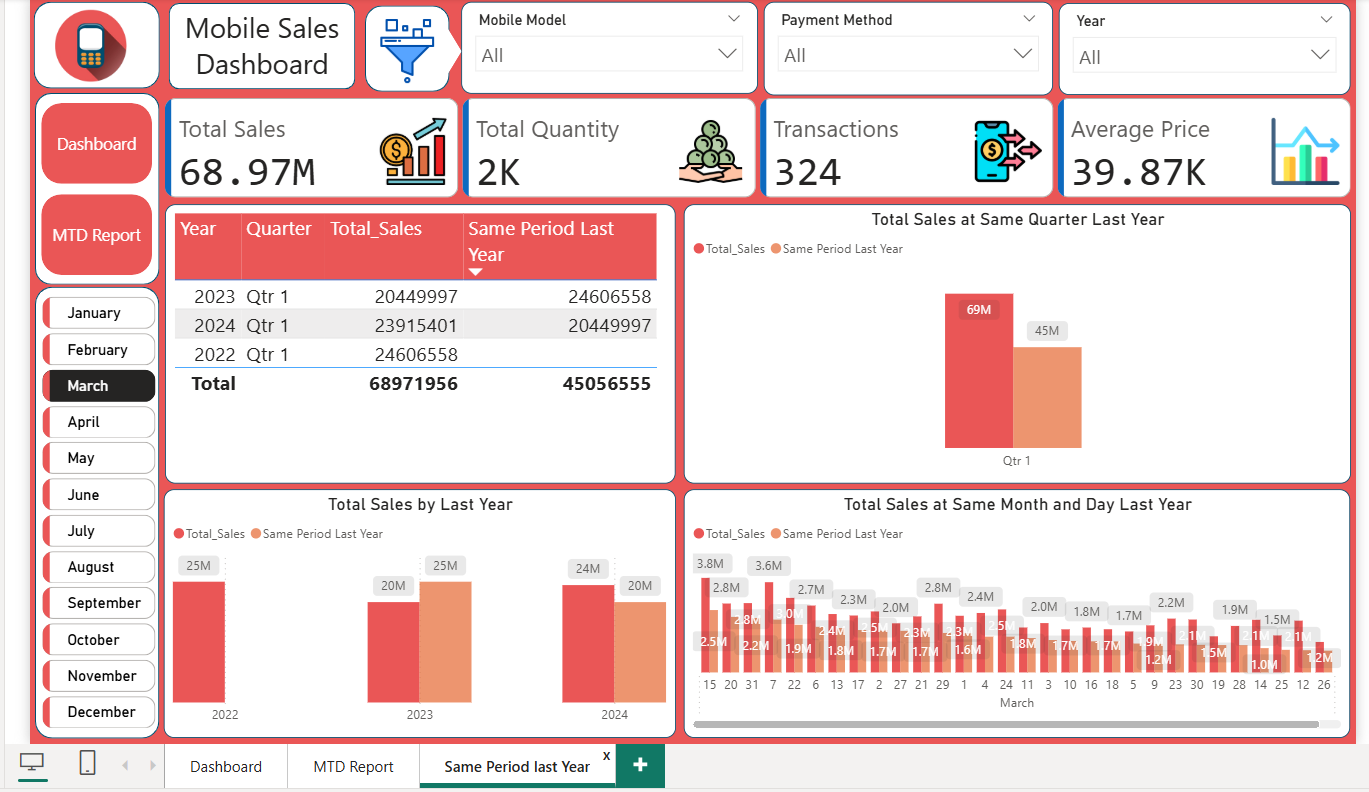

The page's visual inventory and layout, read from the dashboard file:
{"tool":"powerbi","page":{"name":"Same Period last Year","canvas":[1280,720],"ordinal":2},"visuals":[{"type":"shape","box":[4.1,4.1,121.6,83.8],"z":0},{"type":"image","box":[13.5,2.7,102.4,98.4],"z":1000},{"type":"shape","box":[5.4,91.9,120.3,185.1],"z":2000},{"type":"slicer","fields":{"Values":["Mobile Sales Data.Mobile Model"]},"box":[416.2,3.8,286.2,88.5],"z":3000},{"type":"slicer","fields":{"Values":["Custom_Calender.Date.Variation.Date Hierarchy.Year"]},"box":[992.9,4.3,281.4,88.6],"z":4000},{"type":"slicer","fields":{"Values":["Mobile Sales Data.Payment Method"]},"box":[708.5,3.1,279.2,90],"z":5000},{"type":"shape","box":[323.3,7.5,81.7,83.3],"z":6000},{"type":"shape","box":[383.1,23.8,33.1,54.6],"z":7000},{"type":"image","box":[256.7,14.2,215,74.2],"z":8000},{"type":"shape","box":[133.3,5,180,83.3],"z":9000},{"type":"textbox","box":[133.6,5,180,88.6],"z":10000},{"type":"shape","box":[5.4,278.5,120,436.2],"z":11000},{"type":"advancedSlicerVisual","fields":{"Values":["Custom_Calender.Date.Variation.Date Hierarchy.Month"]},"box":[6.9,283.9,119.4,436.1],"z":12000},{"type":"tableEx","fields":{"Values":["Custom_Calender.Date.Variation.Date Hierarchy.Year","Custom_Calender.Date.Variation.Date Hierarchy.Quarter","Mobile Sales Data.Total_Sales","Mobile Sales Data.Same Period Last Year"]},"box":[130.6,198.6,493.1,269.4],"z":13000},{"type":"clusteredColumnChart","title":"Total Sales at Same Quarter Last Year","fields":{"Category":["Custom_Calender.Date.Variation.Date Hierarchy.Quarter"],"Y":["Mobile Sales Data.Total_Sales","Mobile Sales Data.Same Period Last Year"]},"box":[631.1,198.9,643.9,269.4],"z":14000},{"type":"clusteredColumnChart","title":"Total Sales at Same Month and Day Last Year","fields":{"Y":["Mobile Sales Data.Total_Sales","Mobile Sales Data.Same Period Last Year"],"Category":["Custom_Calender.Date.Variation.Date Hierarchy.Month","Custom_Calender.Date.Variation.Date Hierarchy.Day"]},"box":[630.7,473.6,643.6,240],"z":15000},{"type":"clusteredColumnChart","title":"Total Sales by Last Year","fields":{"Category":["Custom_Calender.Date.Variation.Date Hierarchy.Year"],"Y":["Mobile Sales Data.Total_Sales","Mobile Sales Data.Same Period Last Year"]},"box":[129.5,473.7,494.2,240],"z":16000},{"type":"pageNavigator","box":[10.9,101.3,107.4,167.7],"z":17000},{"type":"cardVisual","fields":{"Data":["Mobile Sales Data.Total_Sales","Mobile Sales Data.Total Quantity","Mobile Sales Data.Transaction","Mobile Sales Data.Average_Price"]},"box":[125,91.7,1155,106.7],"z":18000}]}

Visuals, with their boxes on the page's 1280x720 design canvas (x1, y1, x2, y2). These are canvas units, not pixel positions in the 1369x792 screenshot, which may show the page scaled, cropped or inside an application window:
shape: 4:4:126:88
image: 14:3:116:101
shape: 5:92:126:277
slicer - Mobile Sales Data.Mobile Model: 416:4:702:92
slicer - Custom_Calender.Date.Variation.Date Hierarchy.Year: 993:4:1274:93
slicer - Mobile Sales Data.Payment Method: 708:3:988:93
shape: 323:8:405:91
shape: 383:24:416:78
image: 257:14:472:88
shape: 133:5:313:88
textbox: 134:5:314:94
shape: 5:278:125:715
advancedSlicerVisual - Custom_Calender.Date.Variation.Date Hierarchy.Month: 7:284:126:720
tableEx - Custom_Calender.Date.Variation.Date Hierarchy.Year x Custom_Calender.Date.Variation.Date Hierarchy.Quarter: 131:199:624:468
"Total Sales at Same Quarter Last Year" clusteredColumnChart: 631:199:1275:468
"Total Sales at Same Month and Day Last Year" clusteredColumnChart: 631:474:1274:714
"Total Sales by Last Year" clusteredColumnChart: 130:474:624:714
pageNavigator: 11:101:118:269
cardVisual - Mobile Sales Data.Total_Sales x Mobile Sales Data.Total Quantity: 125:92:1280:198
